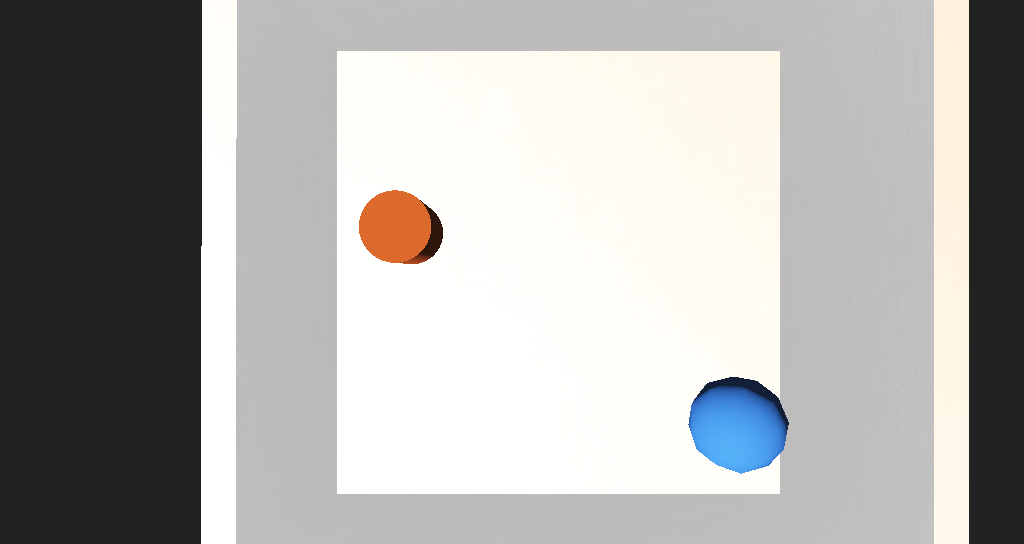cone: (371, 231, 424, 265)
cylinder: (364, 398, 472, 518)
sphere: (596, 315, 657, 363)
